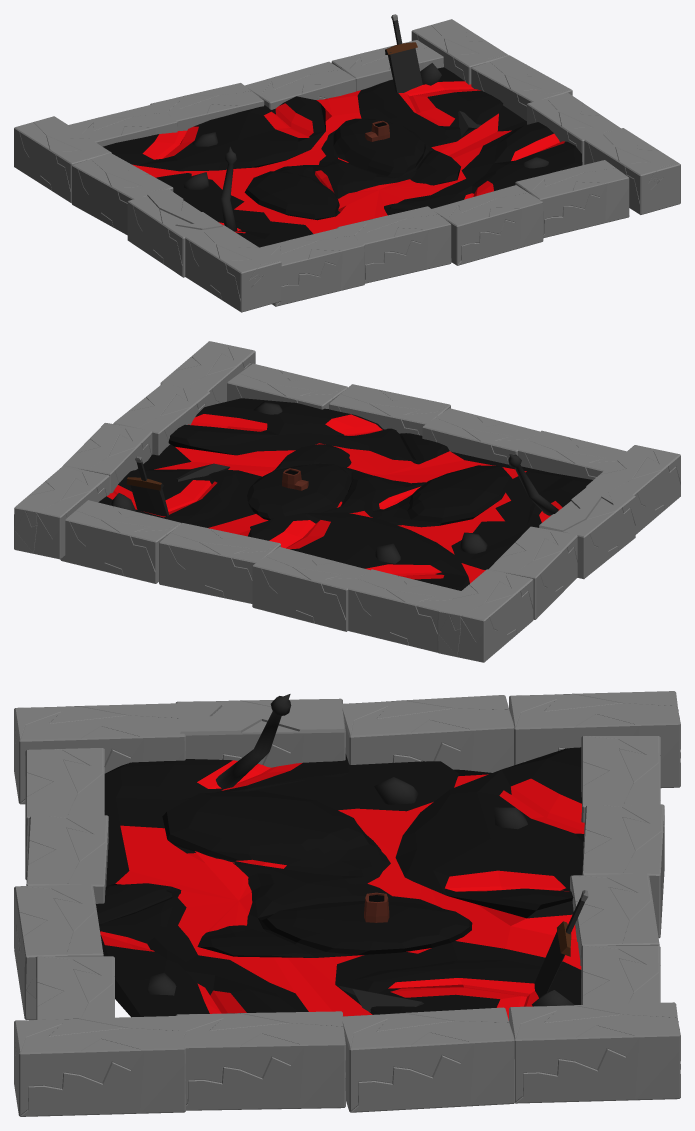
The model's file is firetrap1.fbx.
3 views of the same model, one above another, from view 1: azimuth 30°, elevation 25°; view 2: azimuth 150°, elevation 25°; view 3: azimuth 270°, elevation 25° (orthographic). The views are drawn at different scales.
Parts seen in each view (by area): view 1: Cube.016; view 2: Cube.016; view 3: Cube.016.
Boxes of the visible parts, bbox=[...] form: Cube.016: bbox=[14, 14, 680, 312]; Cube.016: bbox=[14, 341, 680, 662]; Cube.016: bbox=[14, 691, 680, 1116].
Bounding box in the file's own units: 489 × 94.22 × 380.
